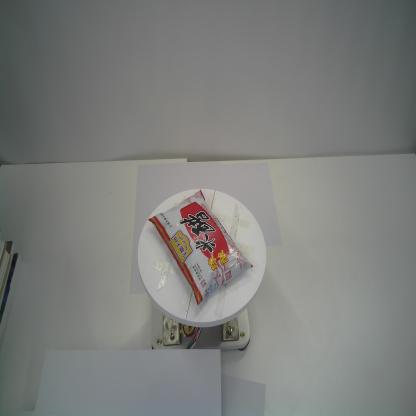Seasoner: (146, 188, 254, 309)
